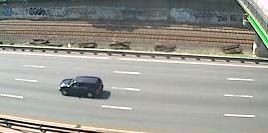car: (58, 75, 106, 101)
